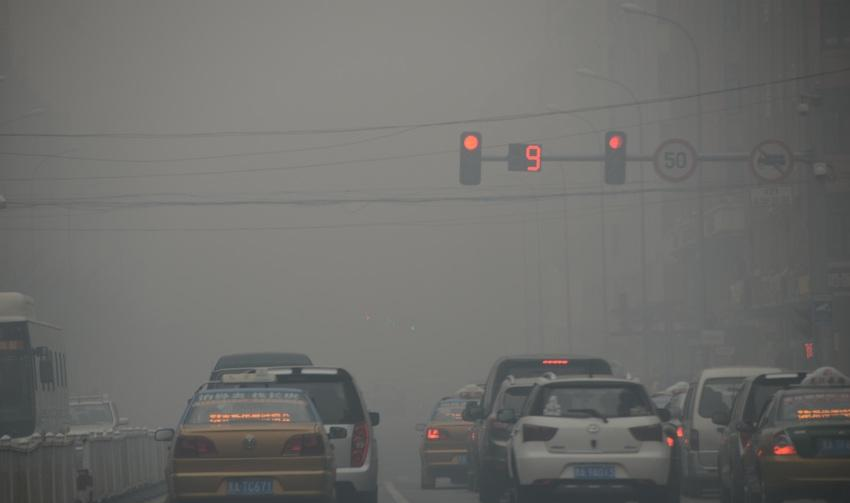bus: (1, 313, 74, 468)
car: (151, 371, 350, 503), (496, 373, 677, 501), (461, 351, 617, 499), (231, 362, 385, 503), (460, 370, 618, 502), (734, 364, 850, 503), (708, 366, 827, 501), (672, 364, 791, 492), (198, 347, 315, 465), (414, 382, 499, 492), (52, 392, 129, 464)
